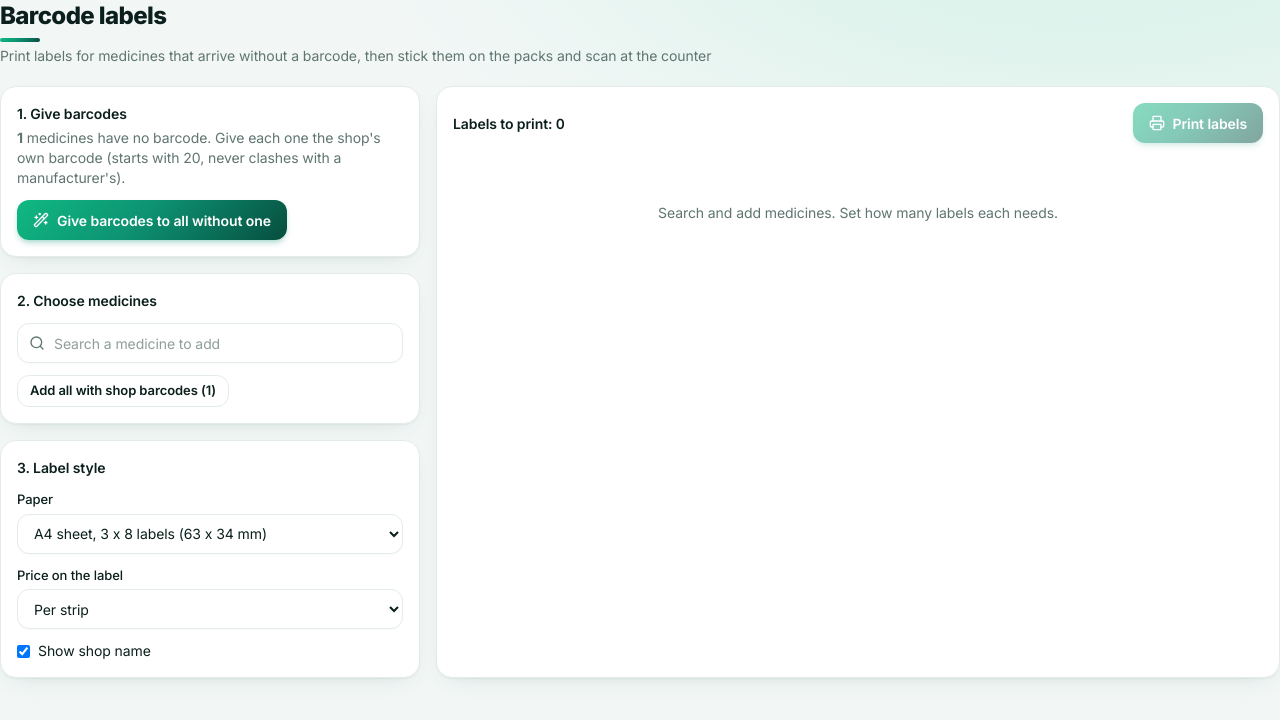
it: Barcode labels › a medicine without a barcode cannot be added to the print list
This screenshot has width=1280, height=720.
Expected: the text "have no barcode" is shown, [17,129,381,186]
In the field named "Search medicine for label": (210, 343) [17,323,403,363], type "calpol"
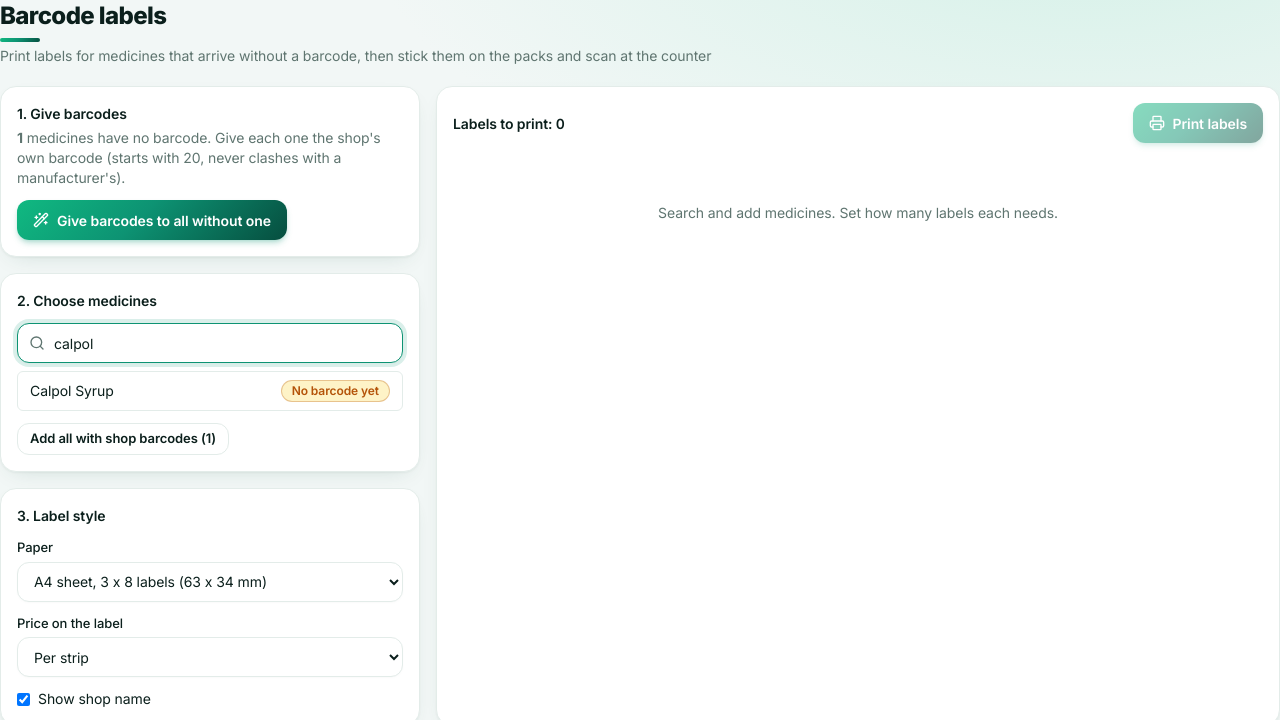
Now the text "No barcode yet" is shown, box [281,380,390,402]
Now the button "Calpol Syrup No barcode yet" is disabled, box [18,372,402,410]
